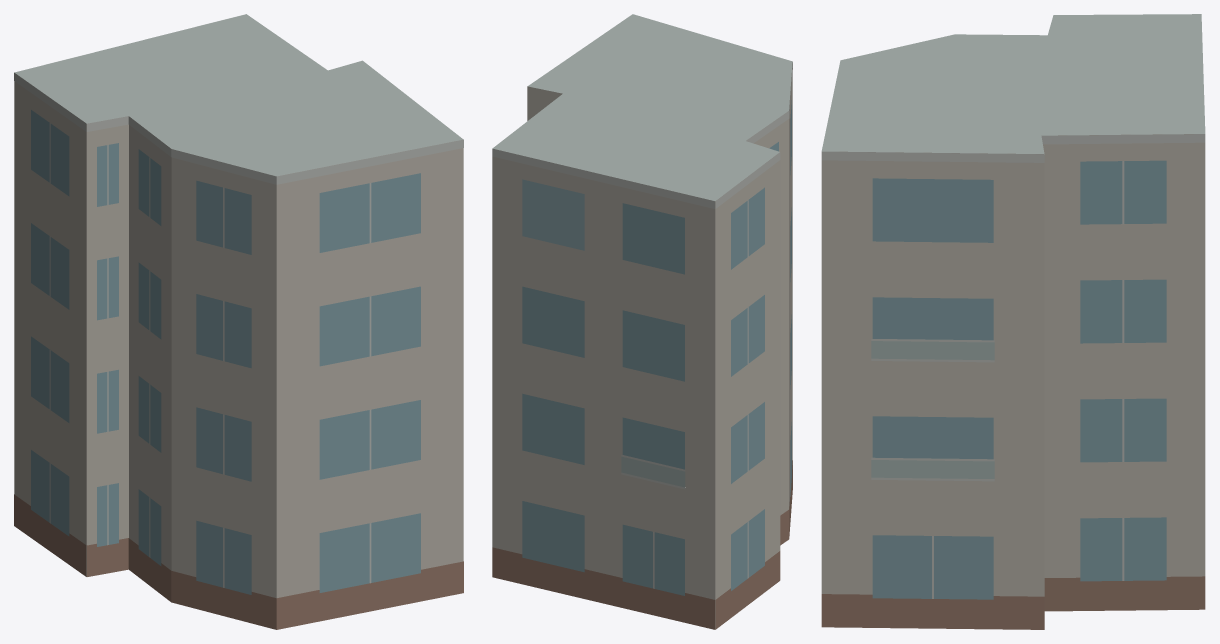
Rendered from survey-upis-32474252.glb.
The picture shows the model from 3 angles, left to right: view 1: azimuth 30°, elevation 25°; view 2: azimuth 150°, elevation 25°; view 3: azimuth 270°, elevation 25°; orthographic projection. The views are drawn at different scales.
Parts seen in each view (by area): view 1: survey-upis-32474252.tmp; view 2: survey-upis-32474252.tmp; view 3: survey-upis-32474252.tmp.
Part boxes in pixels (left/top/right/bottom): survey-upis-32474252.tmp: left=14, top=14, right=463, bottom=629; survey-upis-32474252.tmp: left=492, top=14, right=792, bottom=629; survey-upis-32474252.tmp: left=821, top=14, right=1205, bottom=629.
Size of the model in its own units: 8.32 by 13.15 by 9.63.
